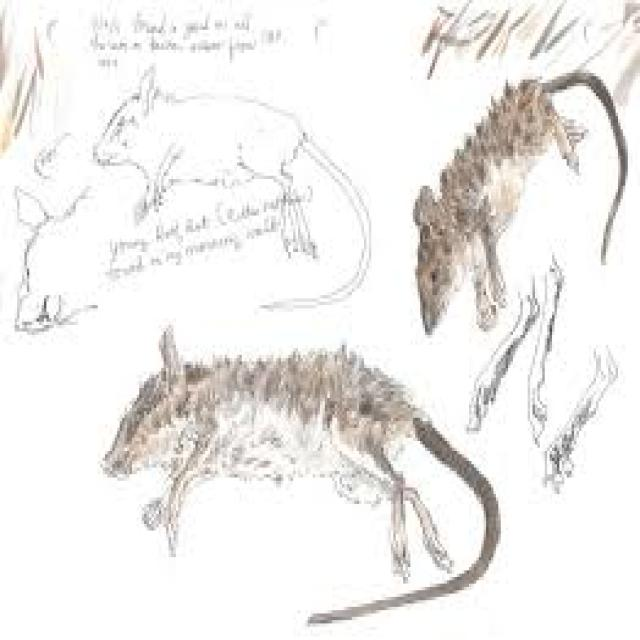rat: (98, 322, 500, 616), (410, 73, 586, 335)
